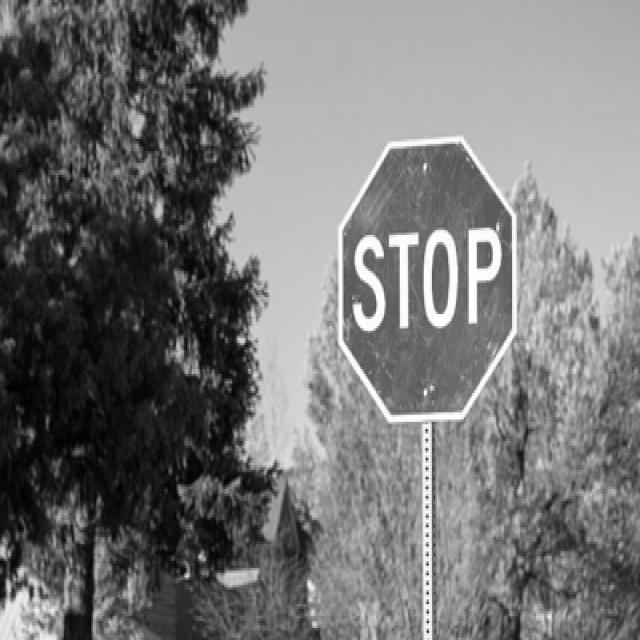Stop-signs: (338, 138, 516, 424)
